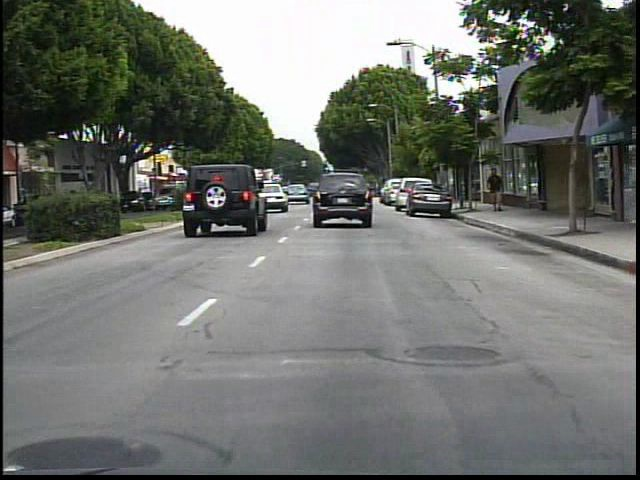person: (484, 166, 509, 216)
